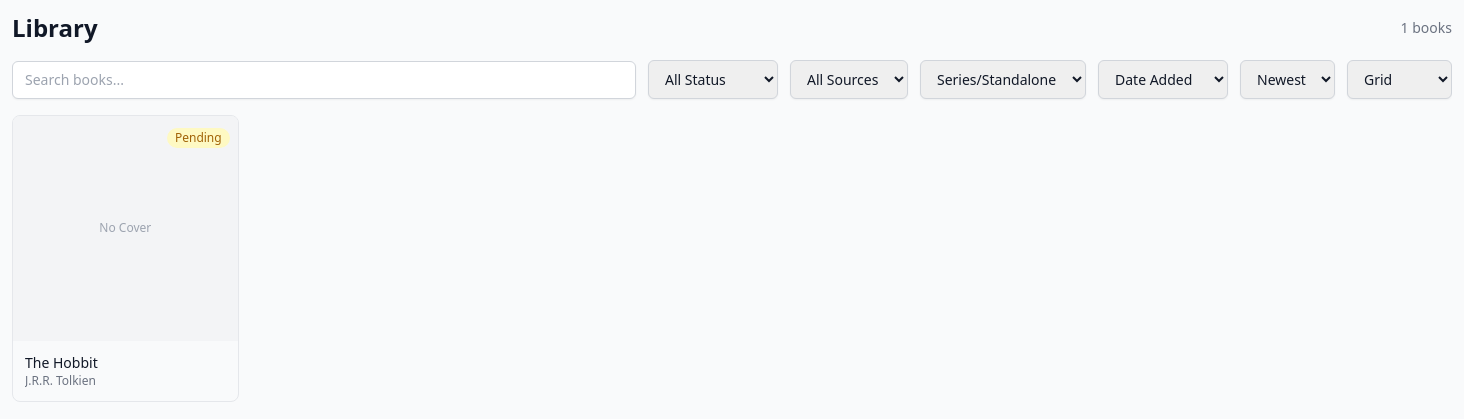
Test: LibraryPage › bulk actions in compact view › clears the selection after a bulk action
Select "Compact" in the 6th dropdown at (1400,80), box [1347,60,1452,99]
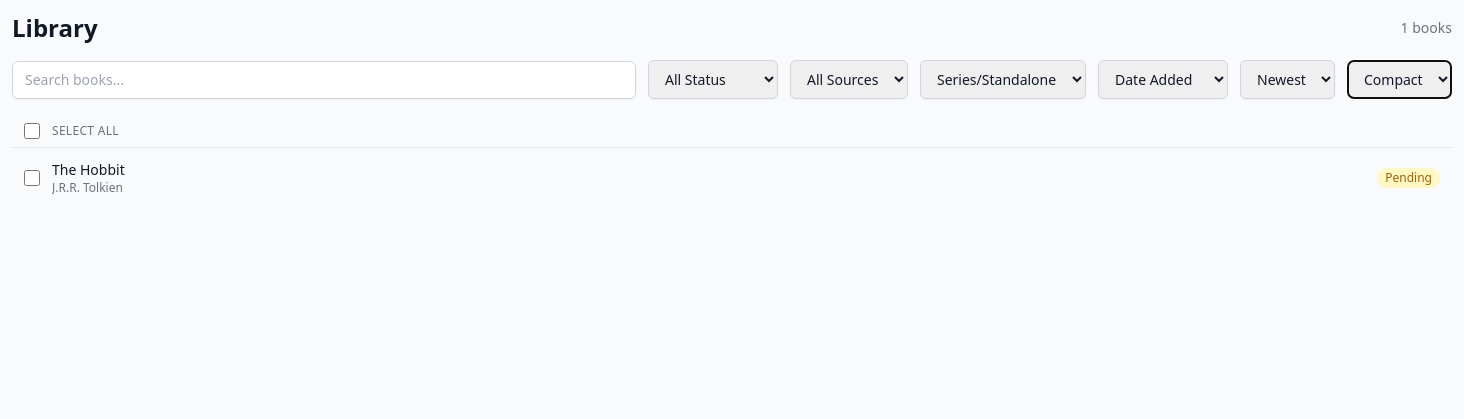
Click the checkbox next to "The Hobbit".
click(32, 178)  # box [24,170,40,186]
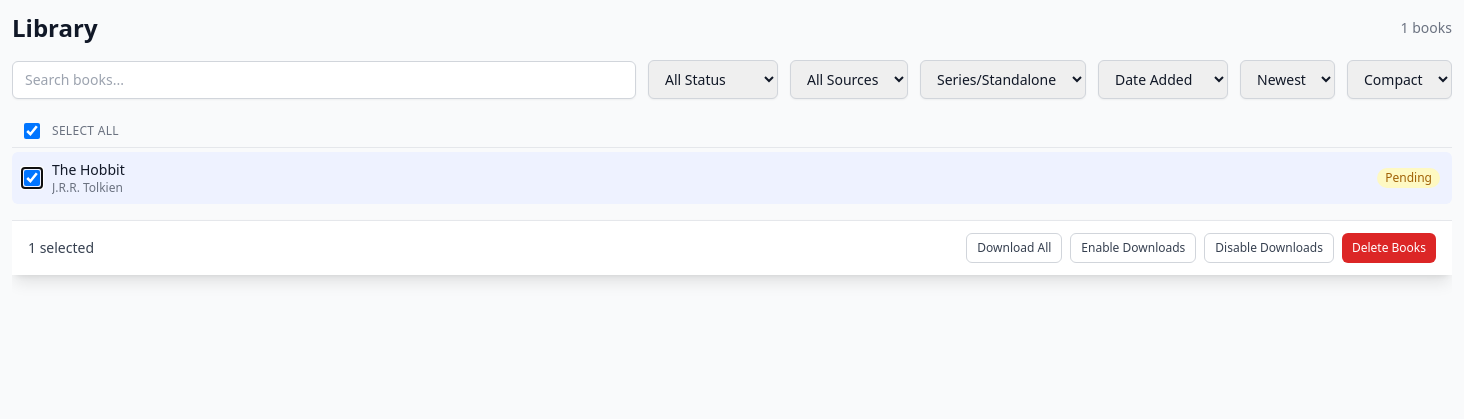
Click the button "Download All".
click(1014, 248)  # box [966,233,1062,263]
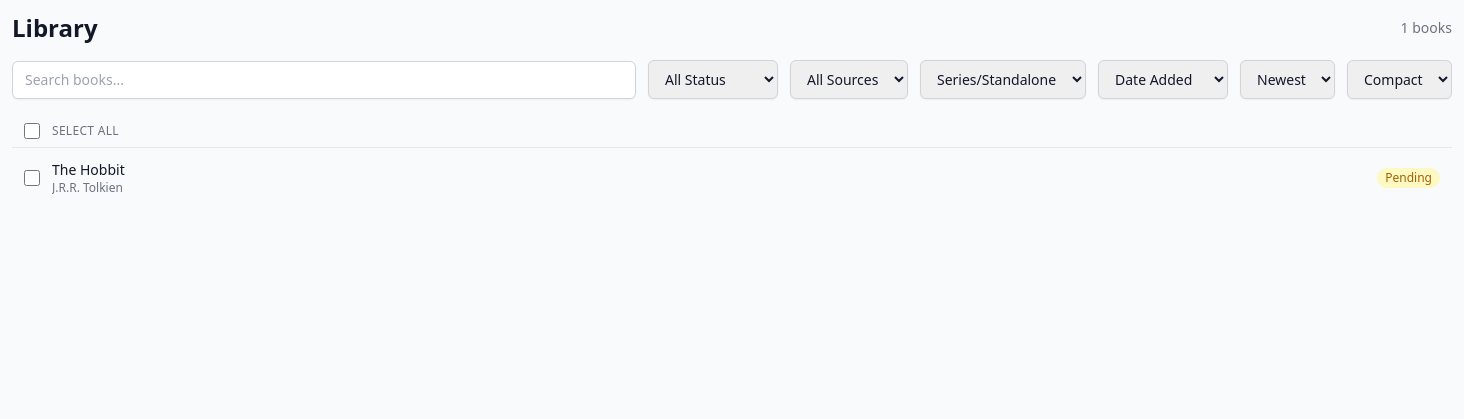
Result: the text "1 selected" is gone
